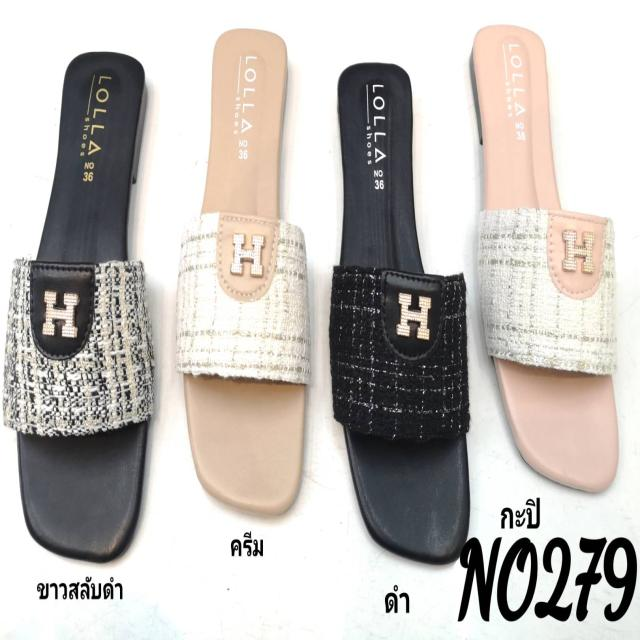black: (337, 64, 468, 555)
cream: (184, 35, 308, 512)
kapi: (472, 26, 617, 488)
white-black: (11, 50, 146, 569)
